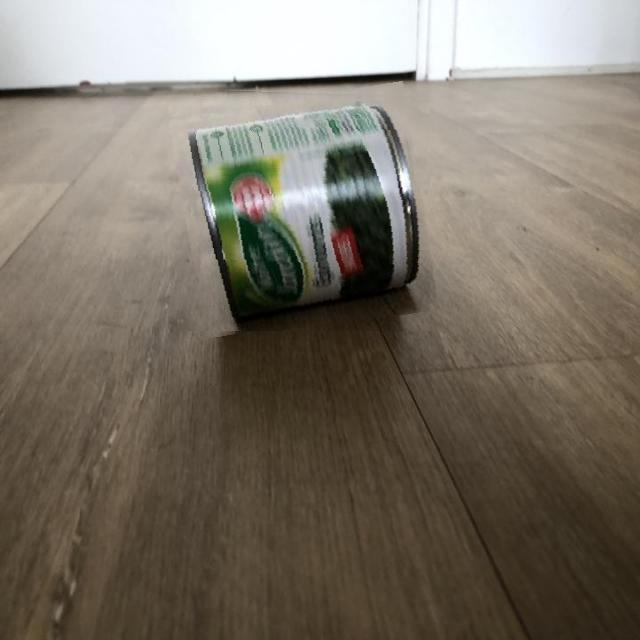recyclable: (176, 89, 430, 331)
